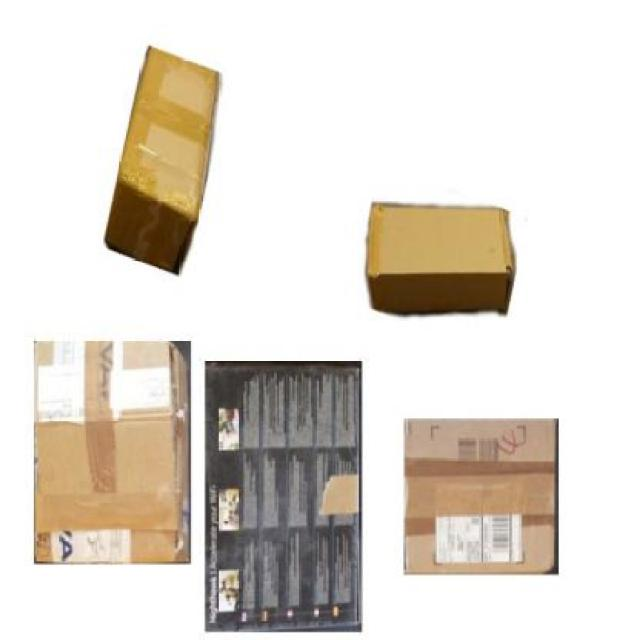cardboxes: (205, 360, 362, 629), (33, 342, 187, 563), (107, 44, 219, 270), (403, 416, 557, 576), (368, 204, 512, 310)
